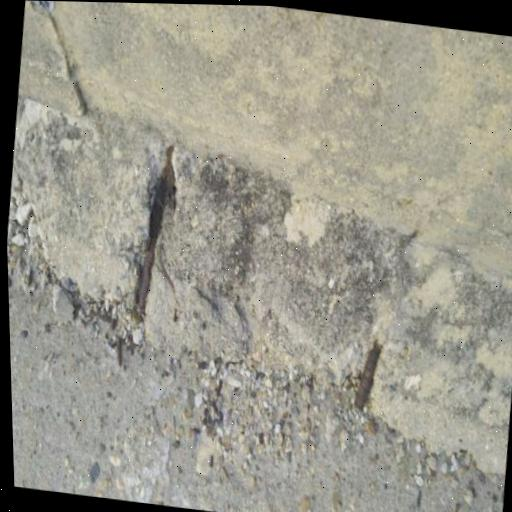exposed_rebar: (137, 147, 175, 314), (355, 344, 381, 410)
